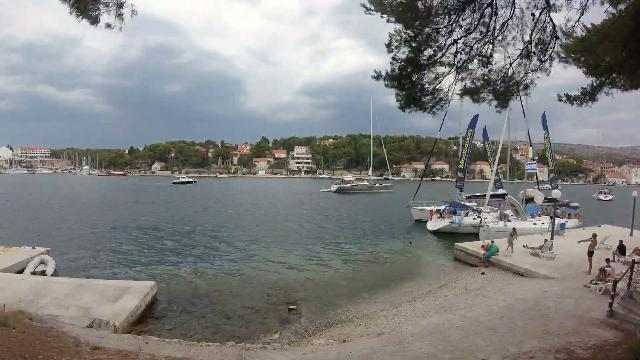Sailboat: (325, 167, 399, 201)
speedboat: (169, 168, 199, 188)
